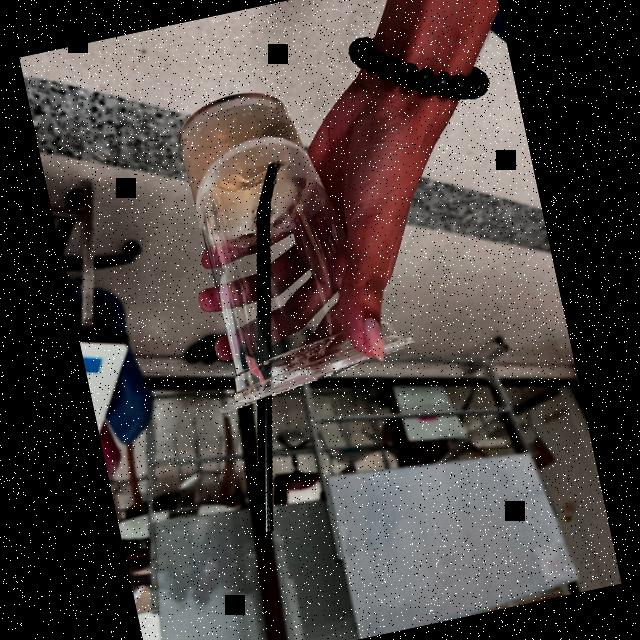plastic_cup: (146, 74, 426, 413)
straw: (247, 158, 292, 538)
